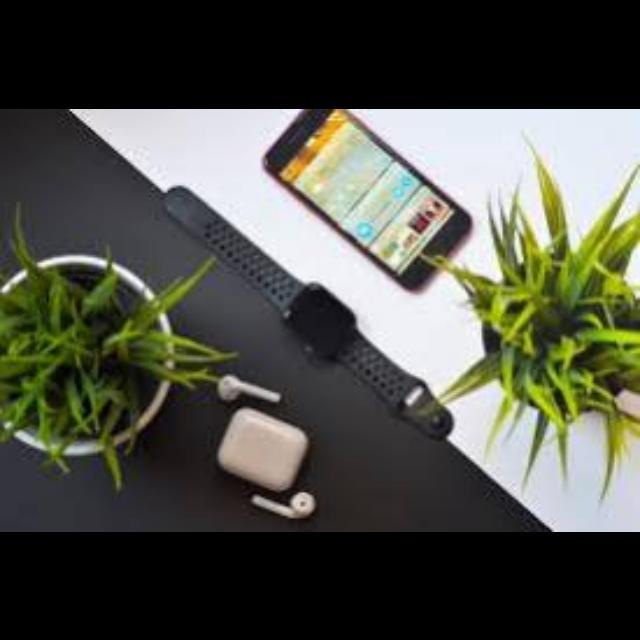Phone: (257, 108, 487, 284)
